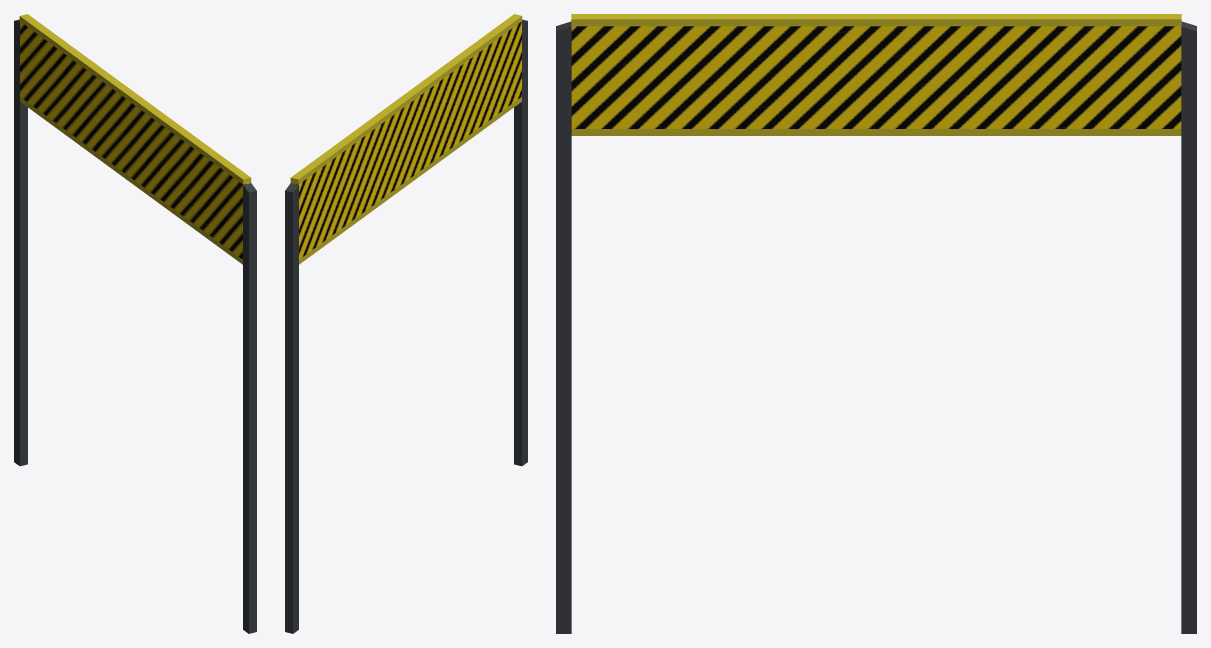
File: gecis_kalın_olan.fbx
The picture shows the model from 3 angles, left to right: view 1: azimuth 30°, elevation 25°; view 2: azimuth 150°, elevation 25°; view 3: azimuth 270°, elevation 25°; orthographic projection. The views are drawn at different scales.
Visible parts, largest first — view 1: Cube.001; view 2: Cube.001; view 3: Cube.001.
Boxes of the visible parts, bbox=[...] form: Cube.001: bbox=[14, 14, 256, 633]; Cube.001: bbox=[285, 14, 527, 633]; Cube.001: bbox=[556, 14, 1196, 633].
Bounding box in the file's own units: 16.94 × 906 × 856.
Materials: 3 (1 with a texture image).
